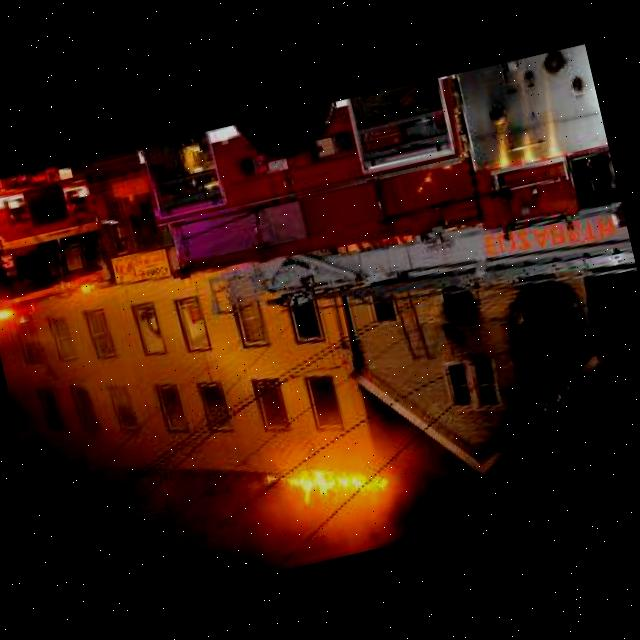fire: (276, 453, 391, 515)
